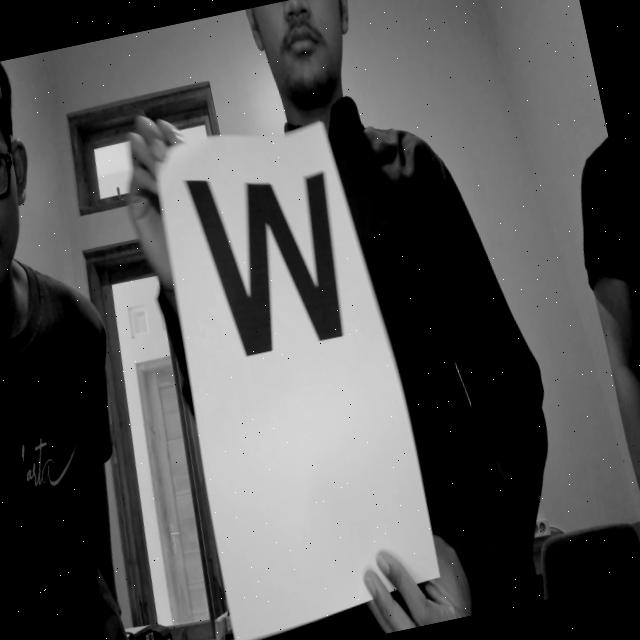w: (175, 135, 398, 397)
